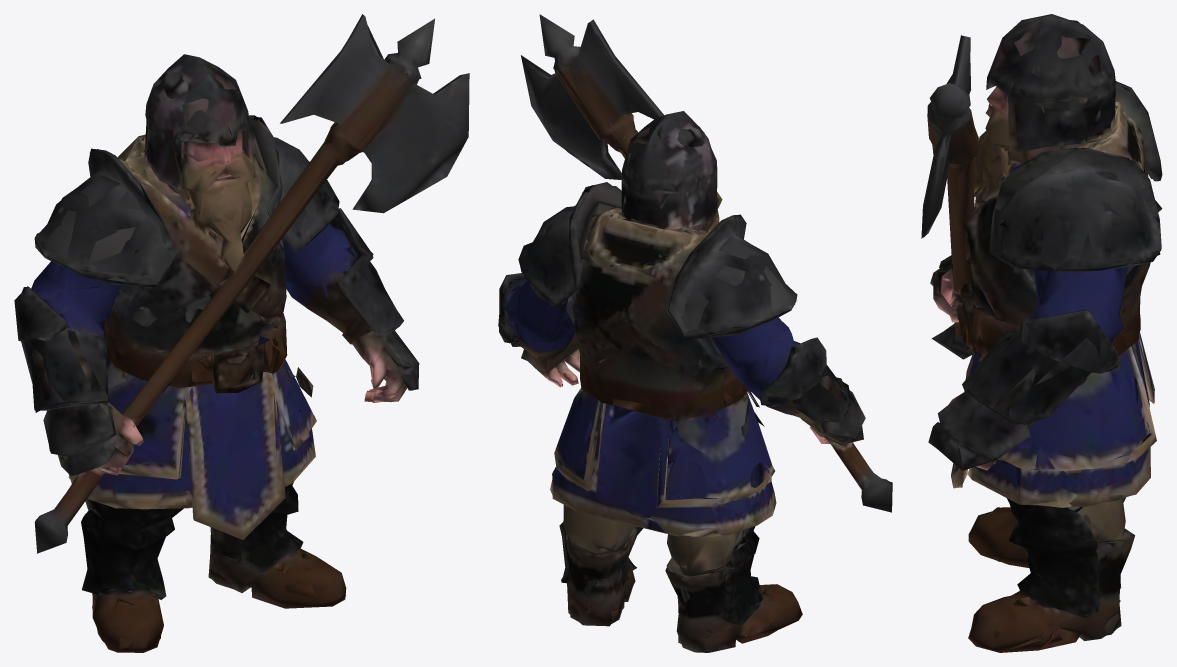
File: detail_4_lo.glb
3 renders of one model, left to right at view 1: azimuth 30°, elevation 25°; view 2: azimuth 150°, elevation 25°; view 3: azimuth 270°, elevation 25°, orthographic. The views are drawn at different scales.
Visible parts, largest first — view 1: Mesh_0.001; view 2: Mesh_0.001; view 3: Mesh_0.001.
Part boxes in pixels (x1,y1,x2,y2): Mesh_0.001: [14, 14, 469, 652]; Mesh_0.001: [498, 14, 892, 652]; Mesh_0.001: [921, 14, 1162, 652].
Bounding box in the file's own units: 0.7415 × 0.9975 × 0.3493.
1 material, 1 textured.
